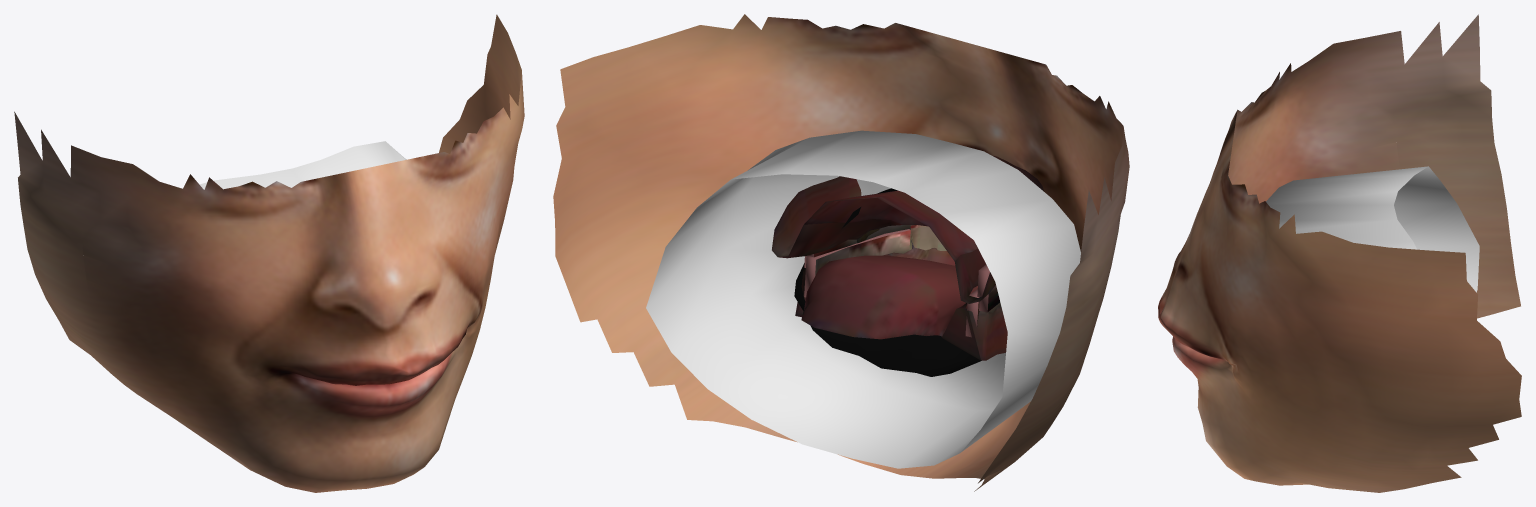
3 views of the same model, side by side, from view 1: azimuth 30°, elevation 25°; view 2: azimuth 150°, elevation 25°; view 3: azimuth 270°, elevation 25° (orthographic). The views are drawn at different scales.
Visible parts, largest first — view 1: Face, occlusion; view 2: Face, occlusion, Teeth; view 3: Face, occlusion.
Part boxes in pixels (x1,y1,x2,y2): Face: [14, 14, 524, 492]; occlusion: [199, 141, 406, 189]; Face: [553, 14, 1129, 491]; occlusion: [646, 130, 1080, 468]; Teeth: [772, 155, 1043, 376]; Face: [1158, 14, 1521, 492]; occlusion: [1266, 166, 1479, 292].
Size of the model in its own units: 6.49 by 4.68 by 4.43.
2 materials, 1 textured.
